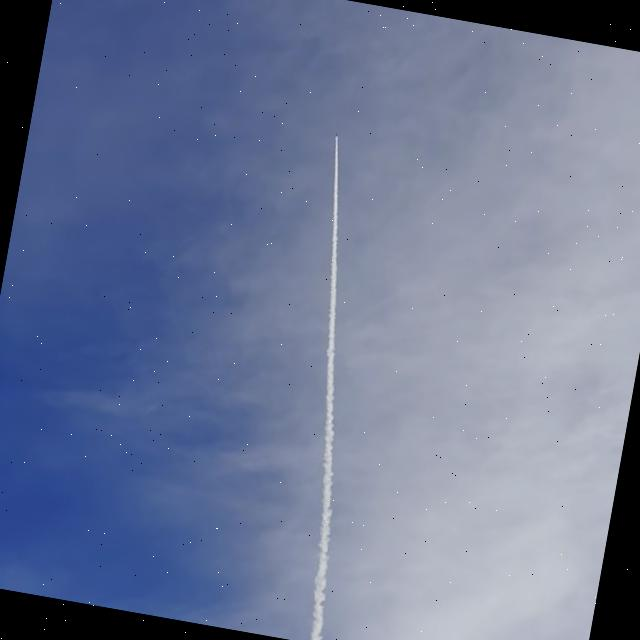smoke_trail_with_rocket: (310, 134, 338, 640)
